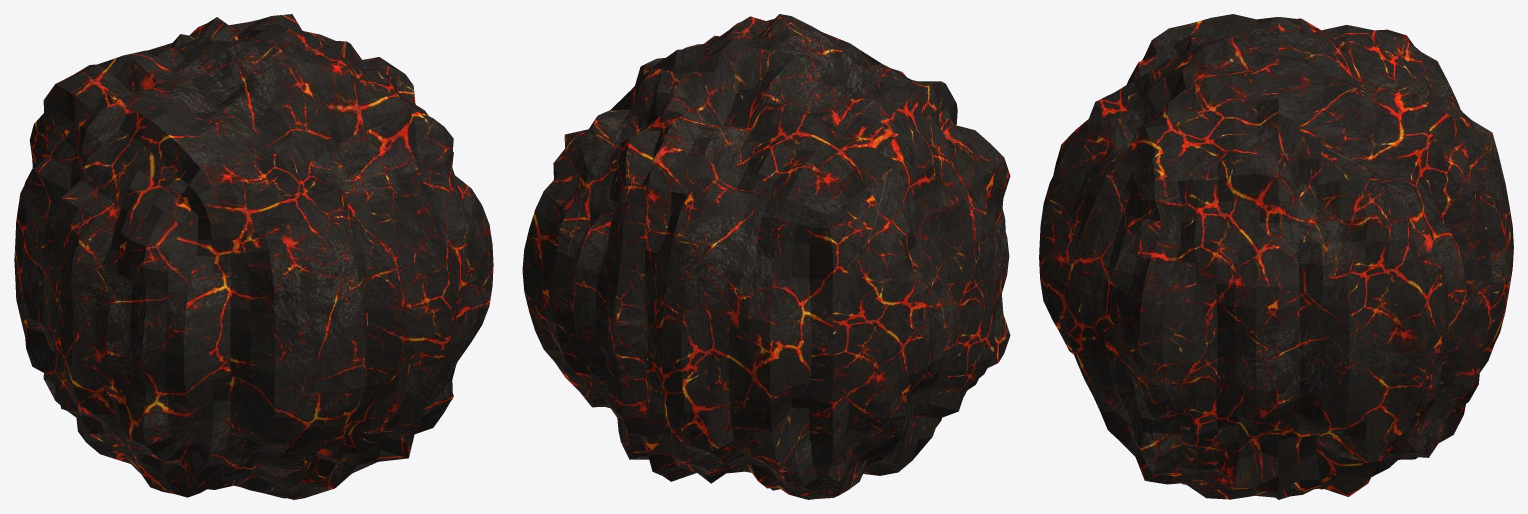
Rendered from asteroid19.obj.
3 renders of one model, left to right at view 1: azimuth 30°, elevation 25°; view 2: azimuth 150°, elevation 25°; view 3: azimuth 270°, elevation 25°, orthographic. The views are drawn at different scales.
Visible parts, largest first — view 1: Cube_Cube.002; view 2: Cube_Cube.002; view 3: Cube_Cube.002.
Boxes of the visible parts, box(x1,y1,x2,y2) form: Cube_Cube.002: box(14, 14, 493, 499); Cube_Cube.002: box(522, 14, 1010, 499); Cube_Cube.002: box(1039, 14, 1513, 499).
Bounding box in the file's own units: 1.69 × 1.87 × 1.75.
